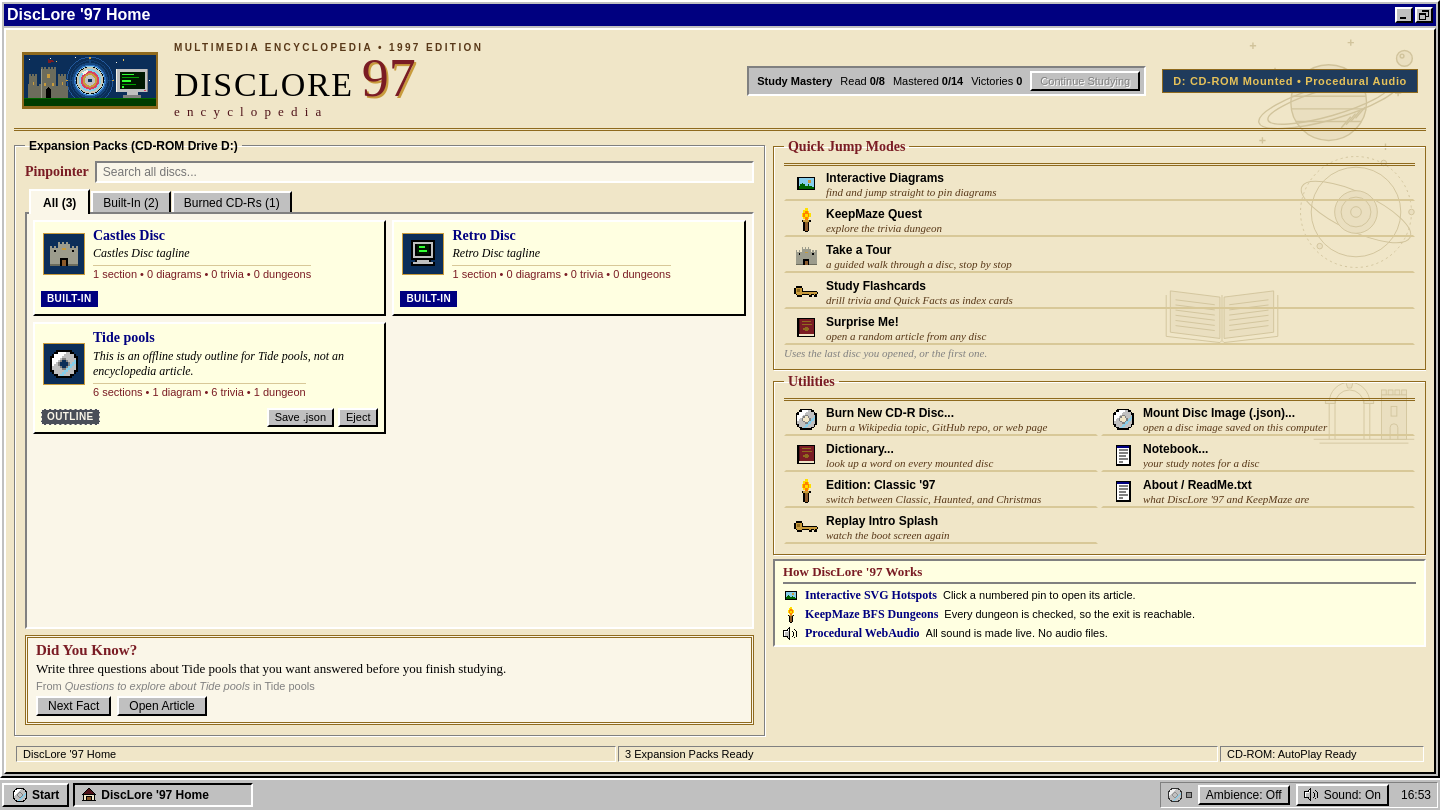
Test: Home cards inside the app › Eject removes the disc from the library and the shelf
Click the tab "Burned CD-Rs (1)" at x=232, y=201, box [172,191,292,212]
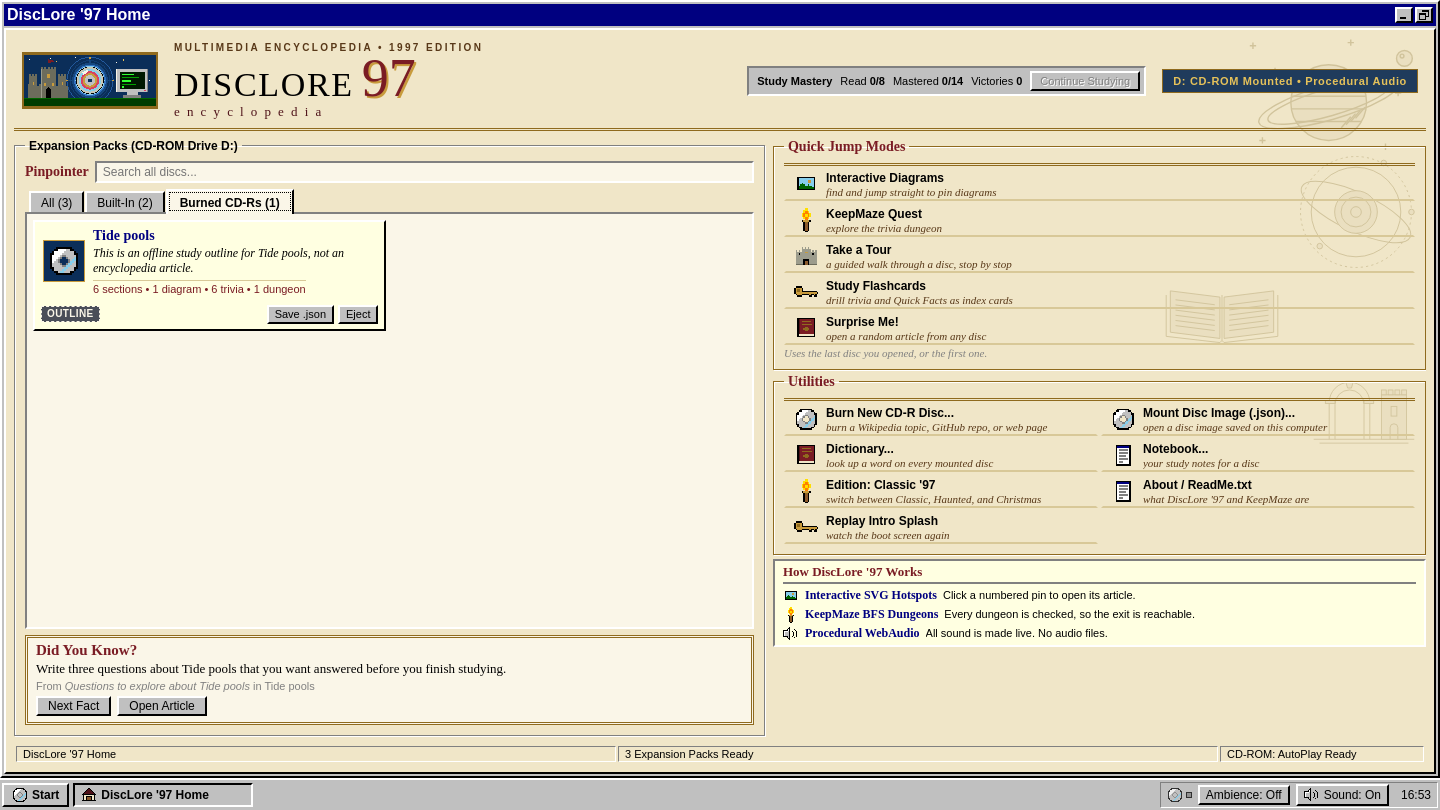
Click the button "Eject" at x=358, y=314, box [338,305,378,324]
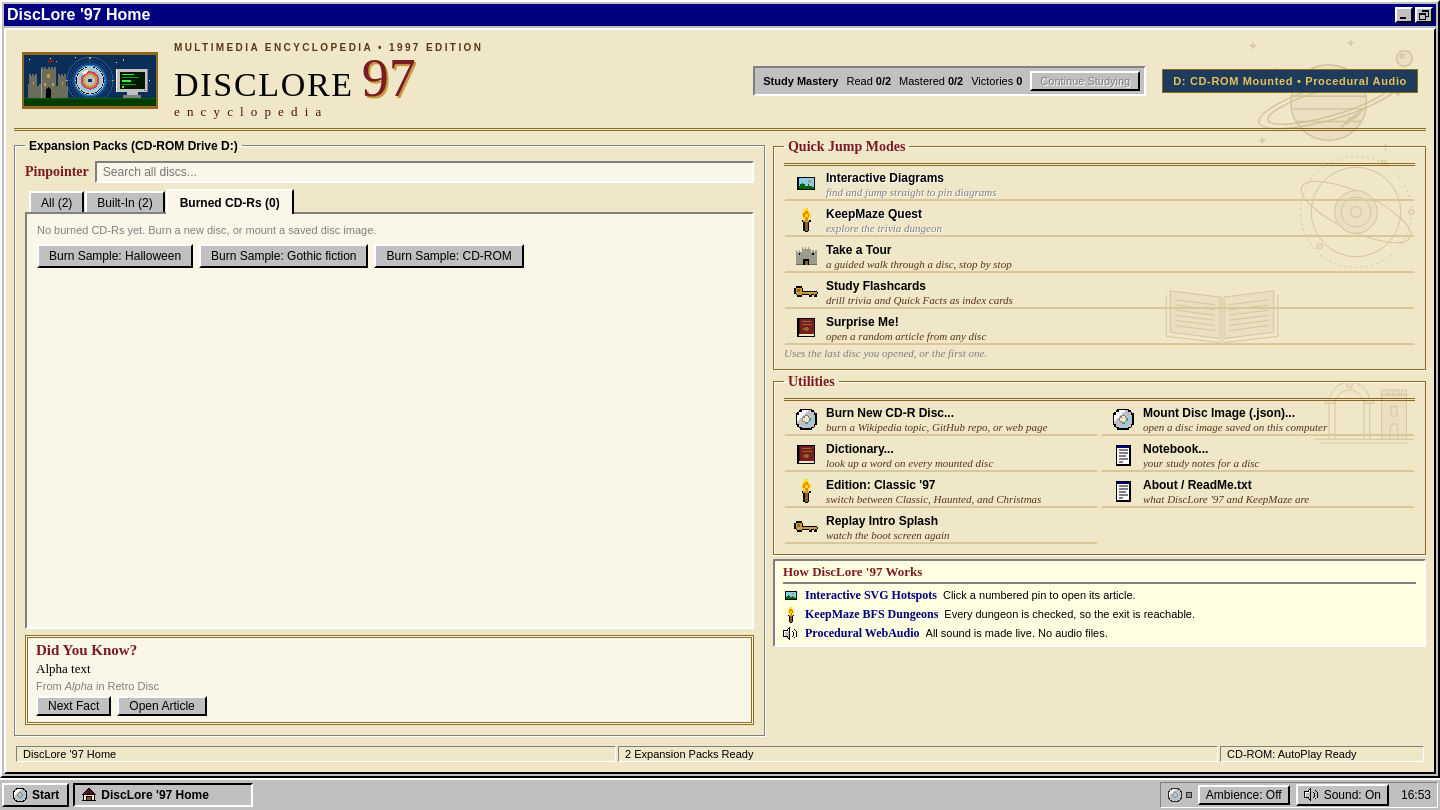
Result: the tab "Burned CD-Rs (0)" is shown at [166,189,294,214]
Result: the text "No burned CD-Rs yet" is shown at [104,224,376,236]
